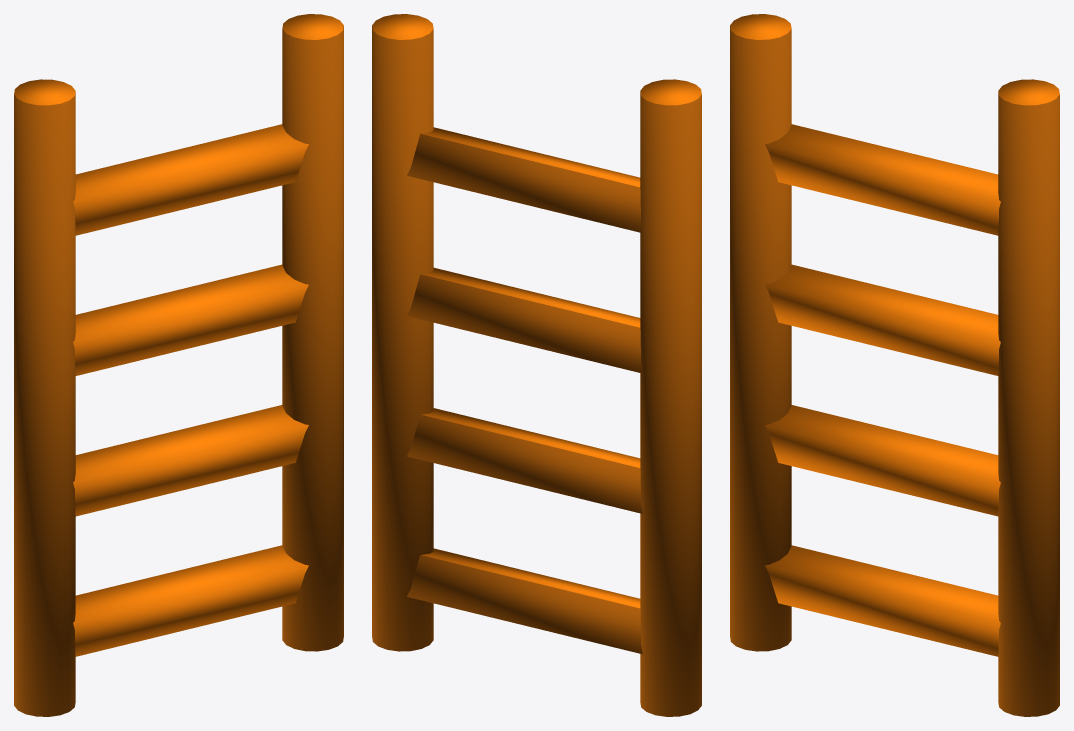
Rendered from Ladder_Small.fbx.
3 views of the same model, side by side, from view 1: azimuth 30°, elevation 25°; view 2: azimuth 150°, elevation 25°; view 3: azimuth 330°, elevation 25° (orthographic).
Visible parts, largest first — view 1: Ladder_Small; view 2: Ladder_Small; view 3: Ladder_Small.
Part boxes in pixels (x1,y1,x2,y2): Ladder_Small: (14, 14, 343, 716); Ladder_Small: (372, 14, 701, 716); Ladder_Small: (730, 14, 1059, 716).
Bounding box in the file's own units: 1.8 × 0.3007 × 3.27.
